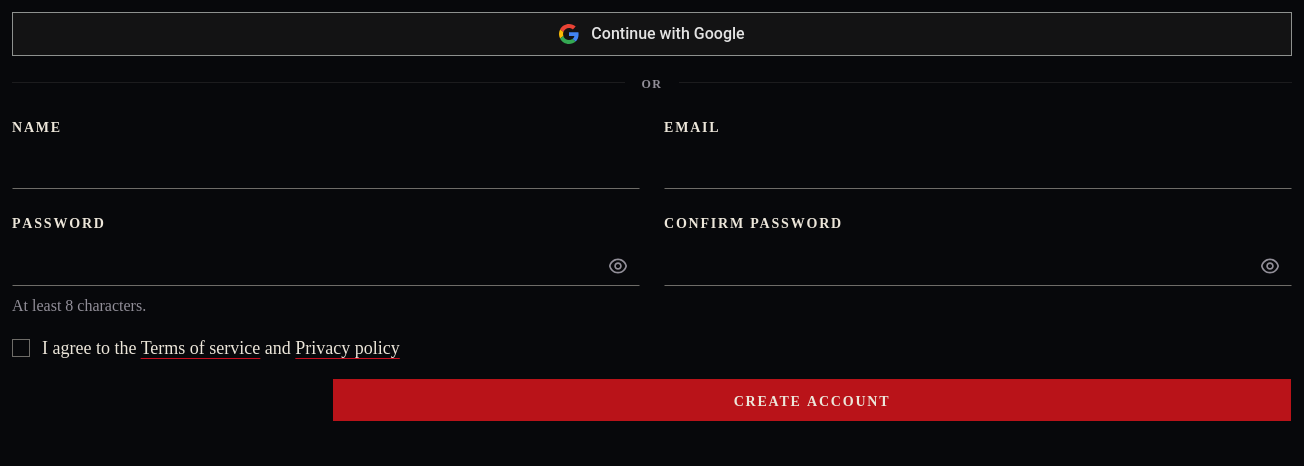
Test case: RegisterForm › puts the server's answer on the field it is about
Type "Carrie White" into the field labelled "Name" at (326, 169), box [12,149,640,189]
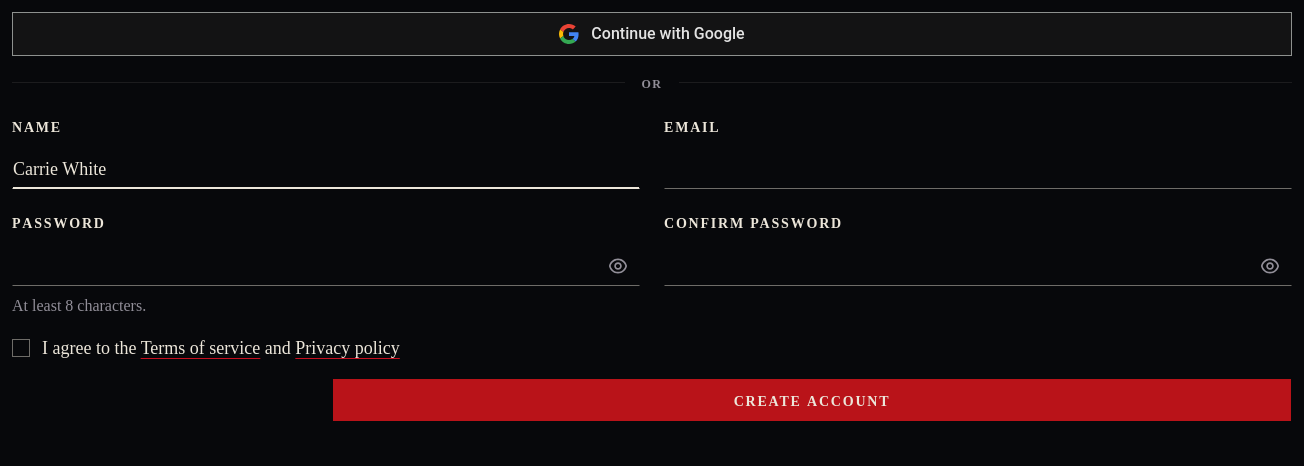
Type "carrie@example.com" into the field labelled "Email" at (978, 169), box [664,149,1292,189]
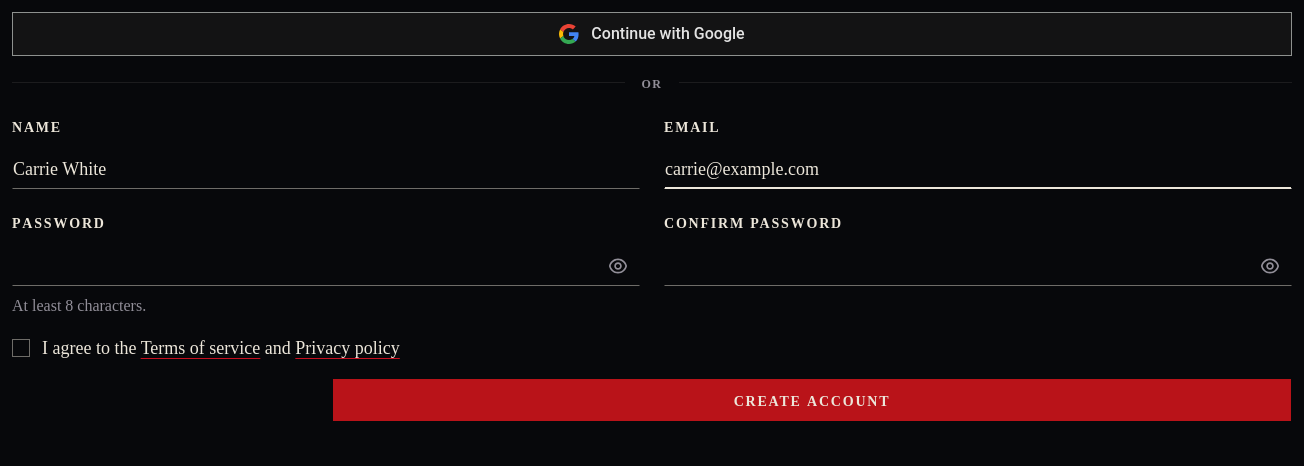
Type "prom night 1976" into the password field labelled "Password" at (326, 266), box [12,246,640,286]
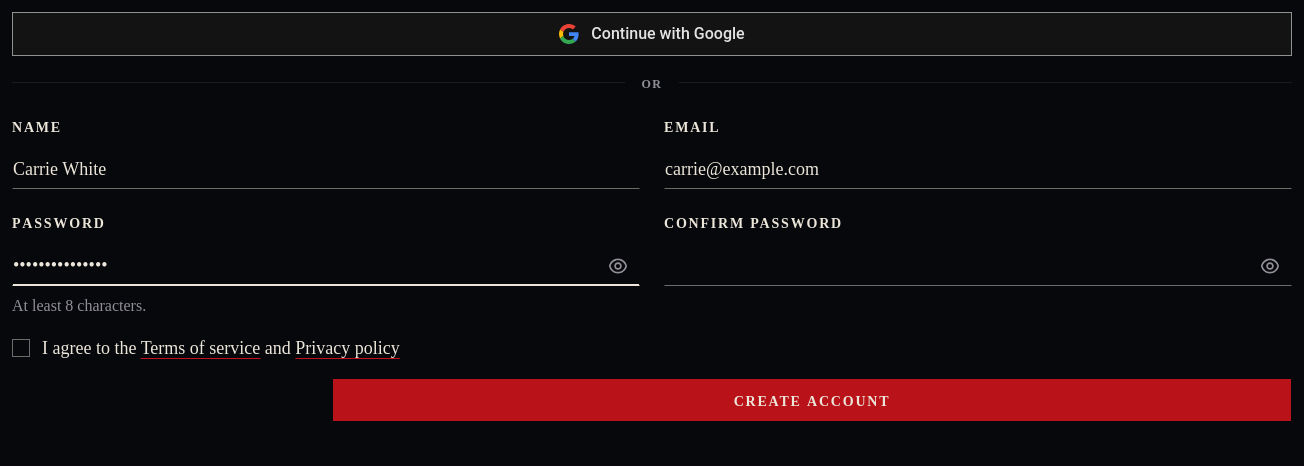
Type "prom night 1976" into the password field labelled "Confirm password" at (978, 266), box [664,246,1292,286]
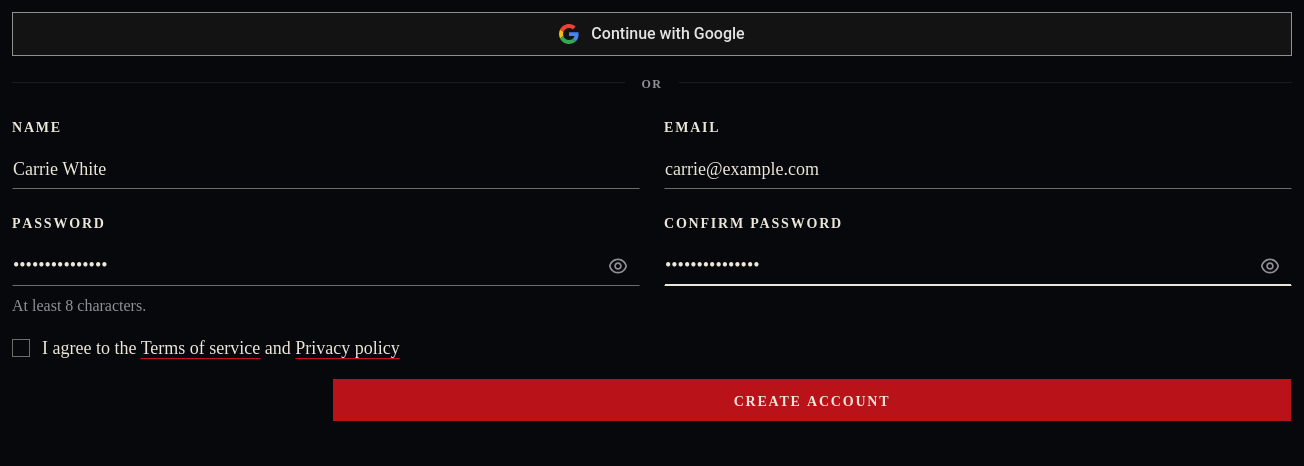
Click the checkbox named "I agree to the Terms of service and Privacy policy" at (21, 348), box [12,339,30,357]
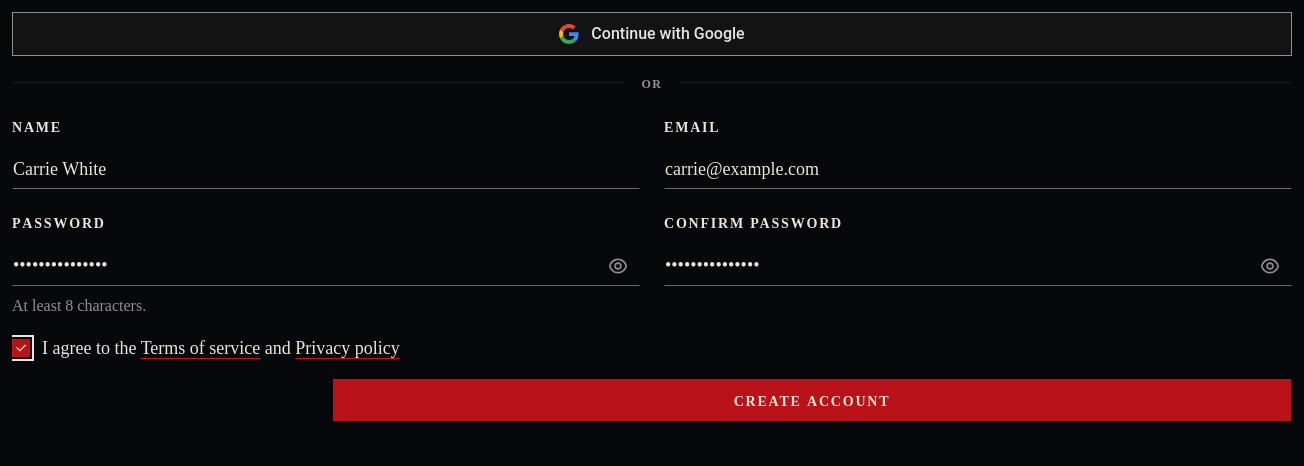
Click the button "Create account" at (812, 400), box [332,378,1292,422]
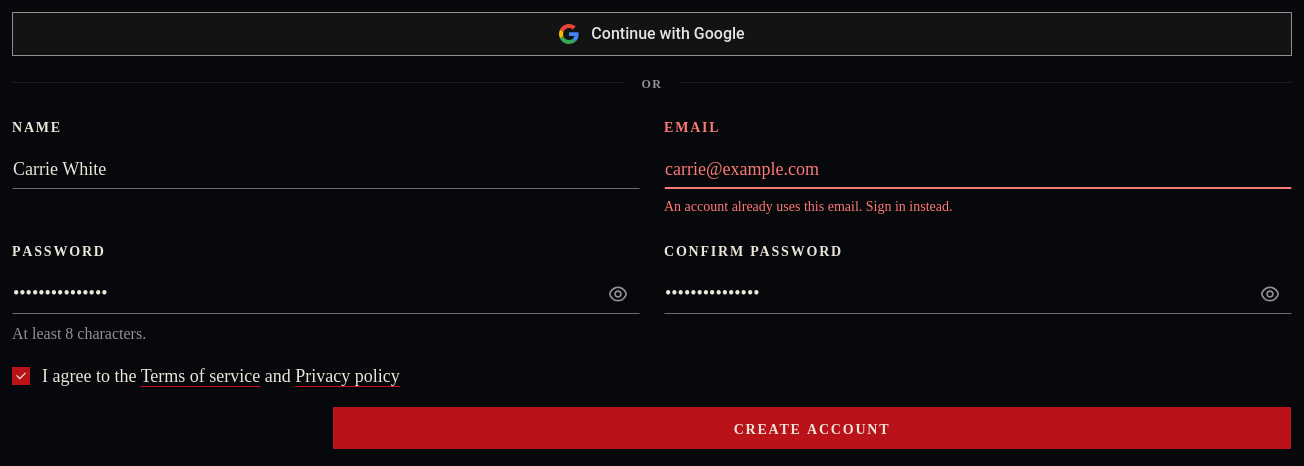
Expected: the text "An account already uses this email. Sign in instead." is shown, [664,199,952,214]
